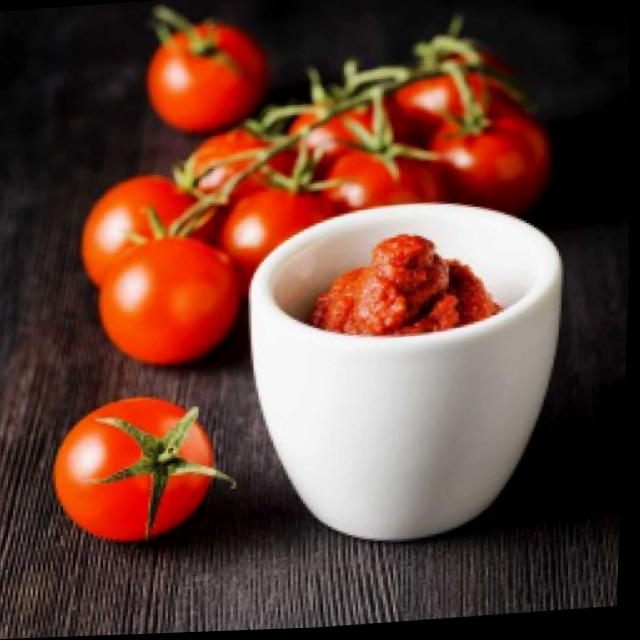tomato: (51, 394, 223, 552), (97, 235, 249, 374), (142, 1, 276, 142), (79, 171, 223, 277)
